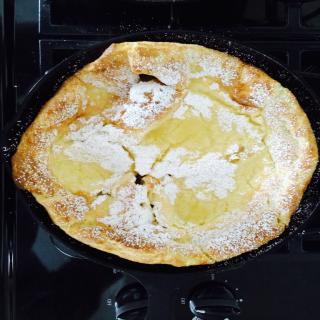Pancake: (25, 35, 304, 268)
